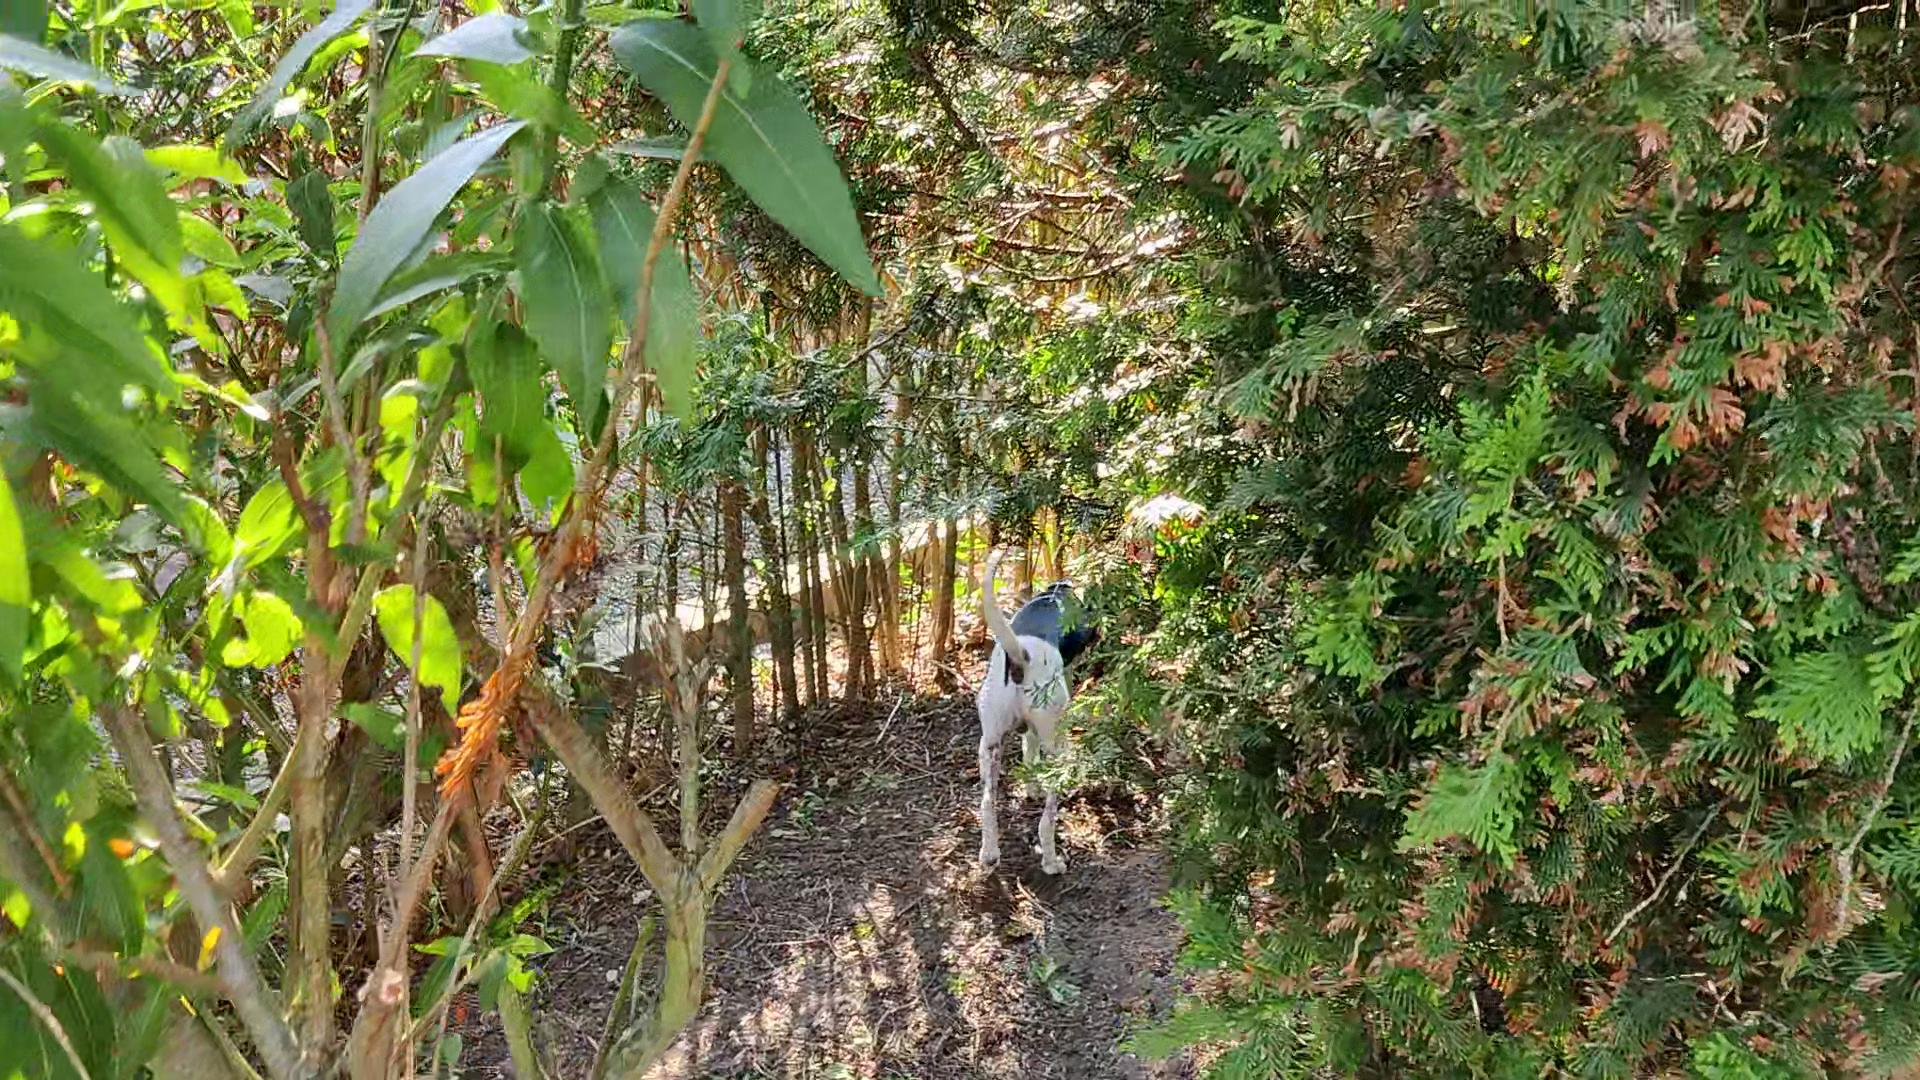Dog: (965, 541, 1126, 877)
